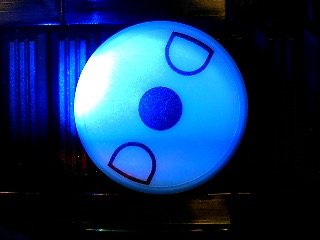BOHOMIPO2: (73, 19, 249, 193)
